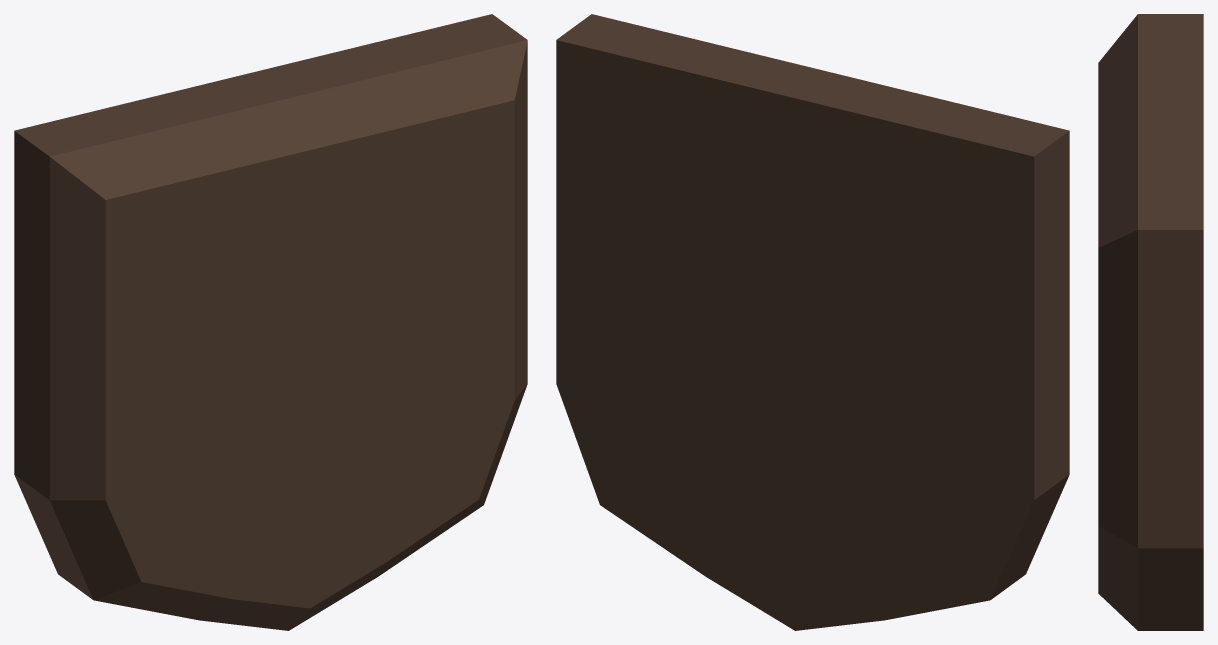
File: item_frame.fbx
3 views of the same model, side by side, from view 1: azimuth 30°, elevation 25°; view 2: azimuth 150°, elevation 25°; view 3: azimuth 270°, elevation 25° (orthographic). The views are drawn at different scales.
Visible parts, largest first — view 1: item_frame; view 2: item_frame; view 3: item_frame.
Part boxes in pixels (x1=…): item_frame: x1=14, y1=14, x2=527, y2=630; item_frame: x1=556, y1=14, x2=1069, y2=630; item_frame: x1=1098, y1=14, x2=1203, y2=630.
Bounding box in the file's own units: 87.84 × 93.52 × 18.14.
